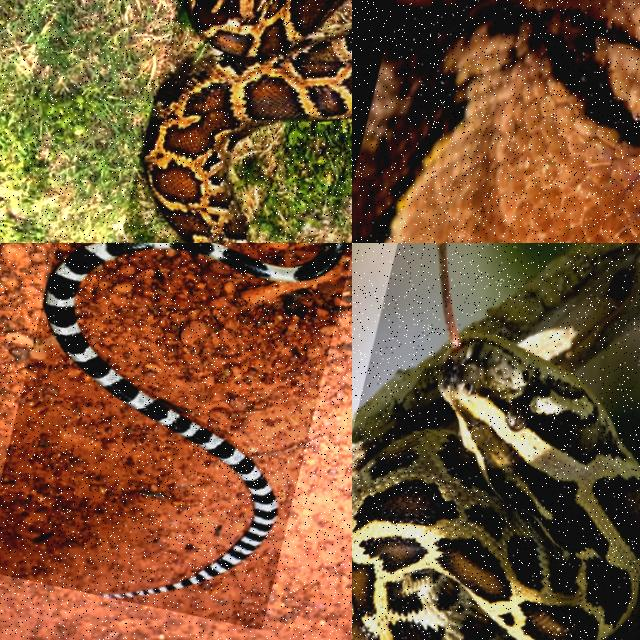Bungarus candidus: (45, 243, 351, 597)
Malayopython reticulatus: (352, 0, 639, 242)
Python bivittatus: (352, 243, 639, 639), (143, 0, 351, 242)
snake: (352, 243, 639, 639), (45, 243, 351, 597), (352, 0, 639, 242), (143, 0, 351, 242)
